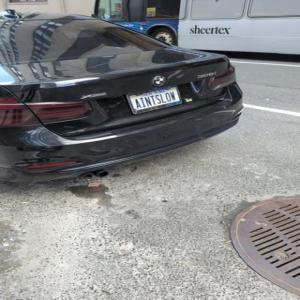Plate: (126, 85, 185, 115)
